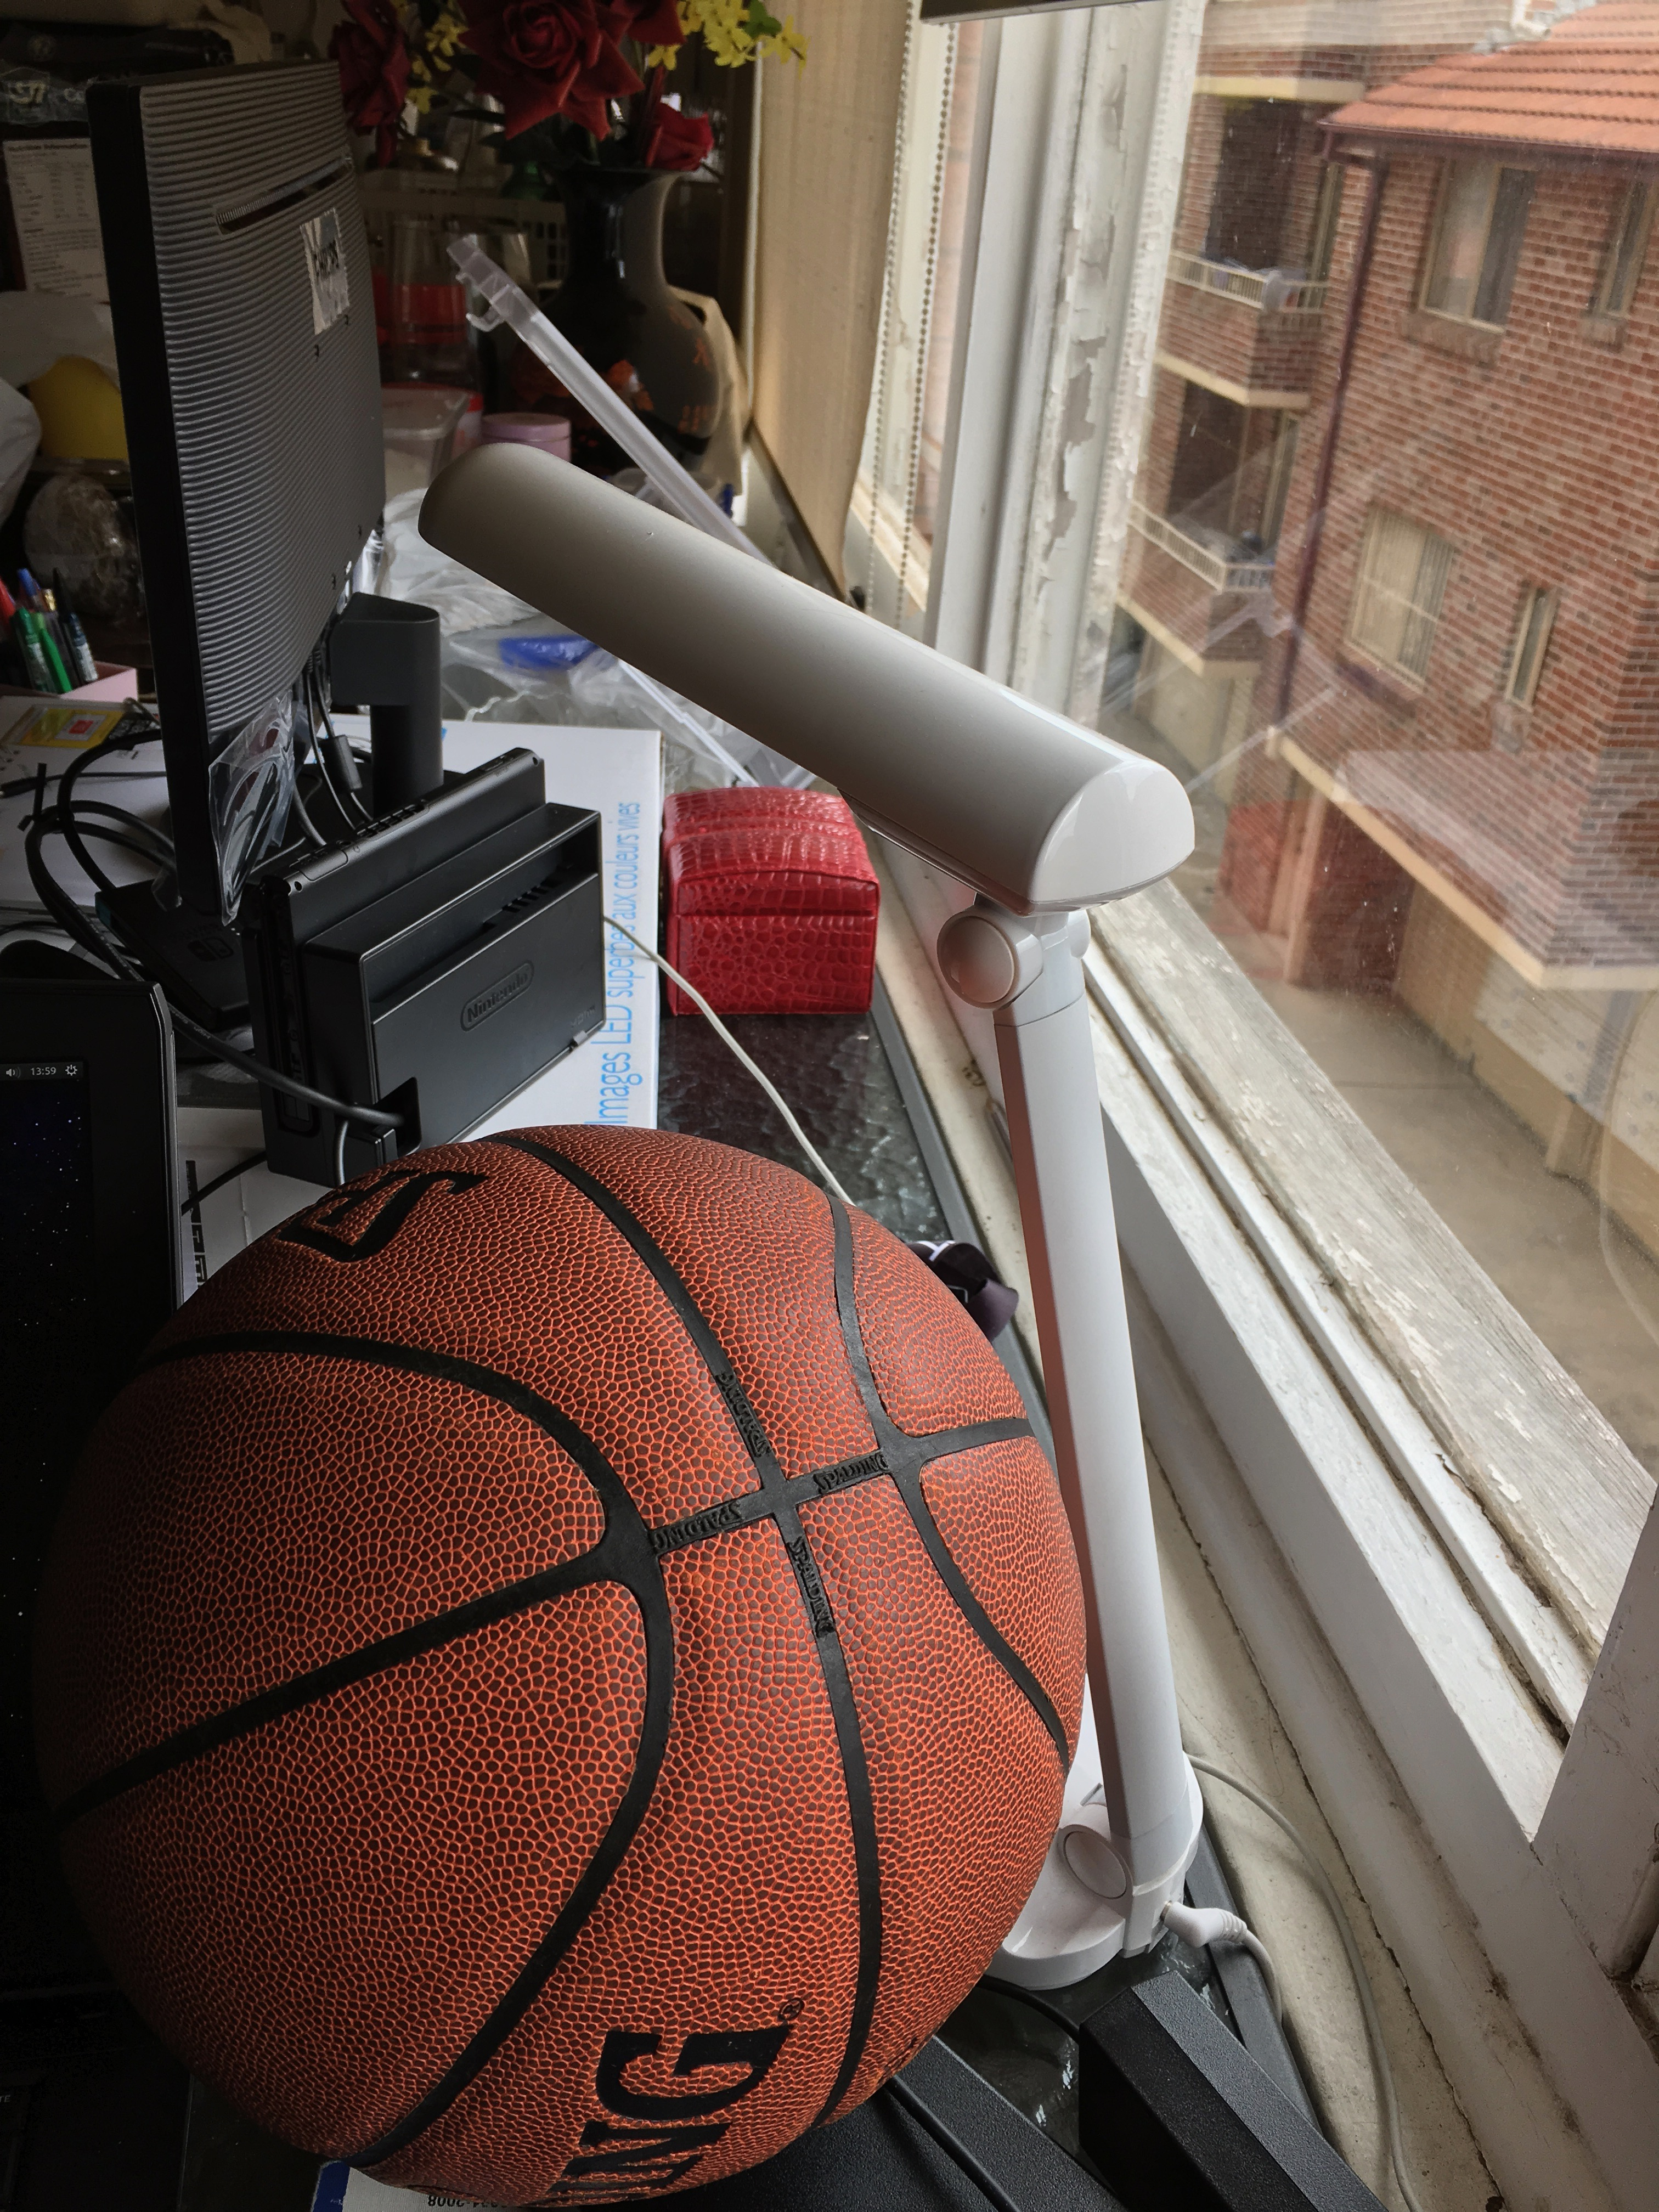Basketball: (84, 1099, 1127, 2212)
